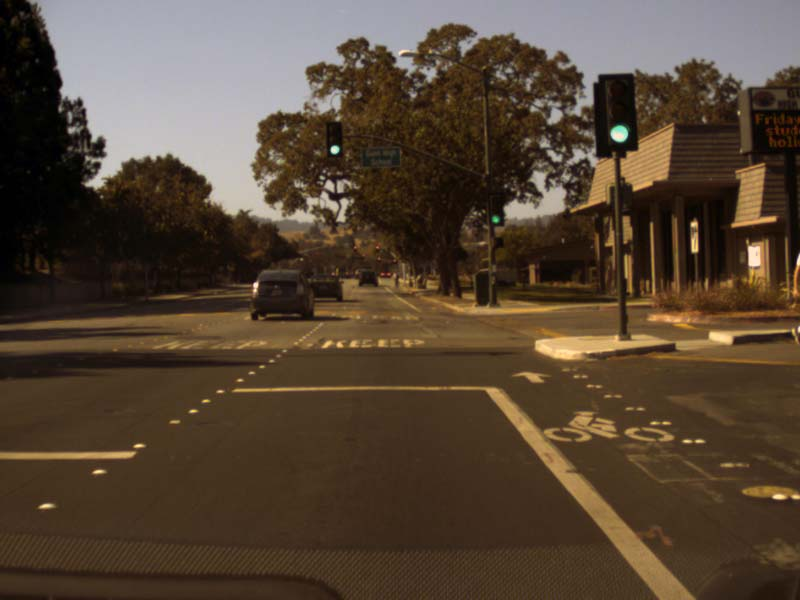Green: (606, 73, 635, 148), (326, 121, 343, 156), (489, 194, 502, 225)
Red: (361, 253, 365, 257), (377, 256, 381, 260), (392, 258, 396, 262)
Yellow: (374, 245, 379, 250), (353, 244, 357, 249)
